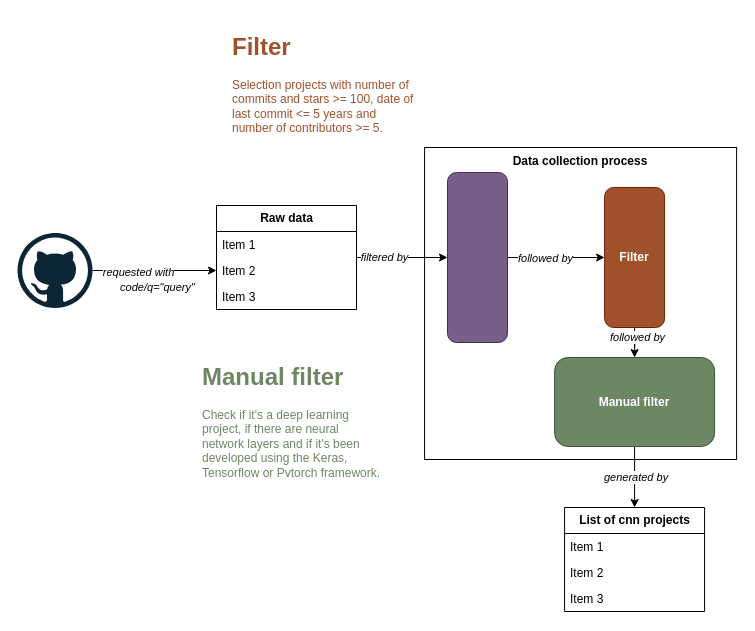
This 755x631 diagram has some shape labels left out. The centre of each missing label's shape, as x and y in pixels:
"Github" goes at (54,270).
"Random selection" goes at (477,257).
